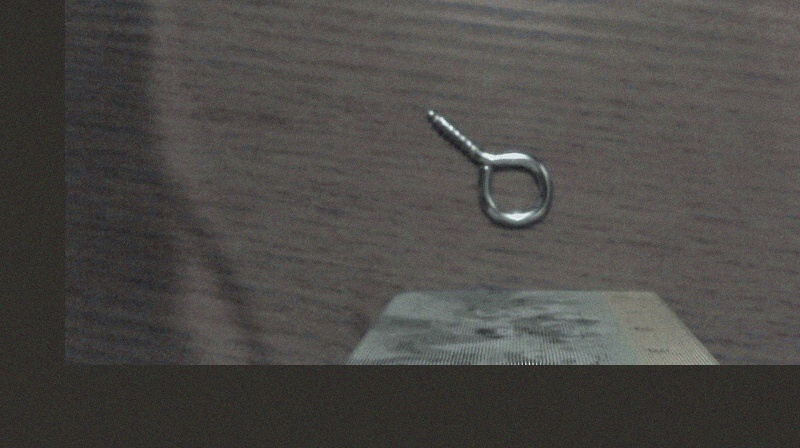O001: (424, 103, 559, 233)
